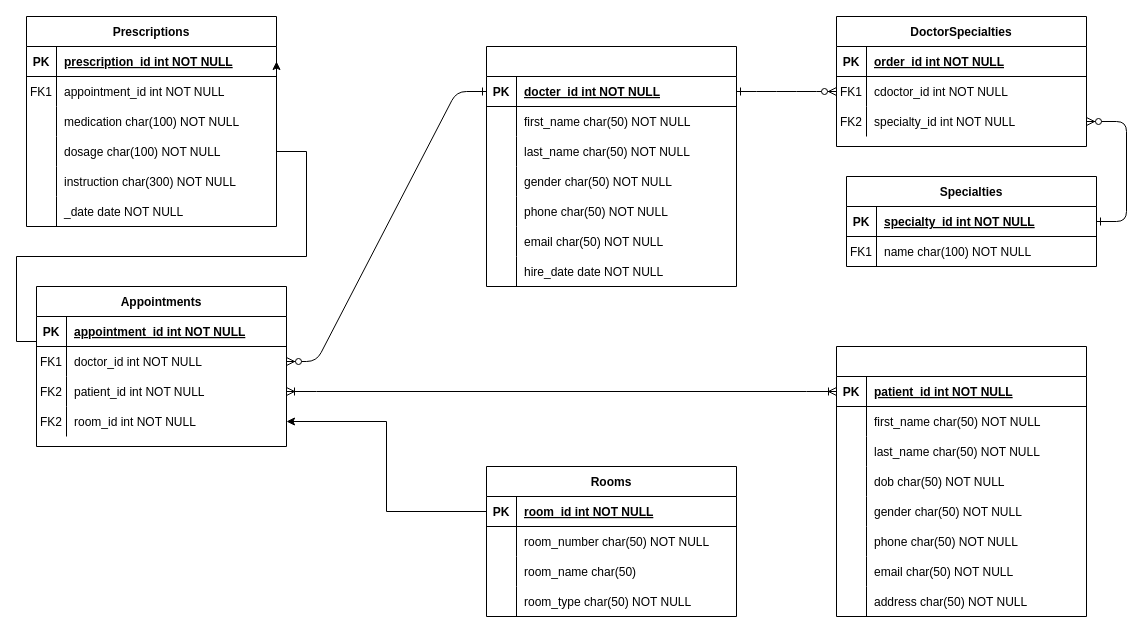
Image size: 1143x633. Some labels were removed from this diagram. The shapes that lost their labels are listed below. From the top down, each one's box as (x1, y1, x2, y2) in pixels, then its label:
(486, 46, 736, 286): Doctors
(836, 346, 1086, 616): Patients
